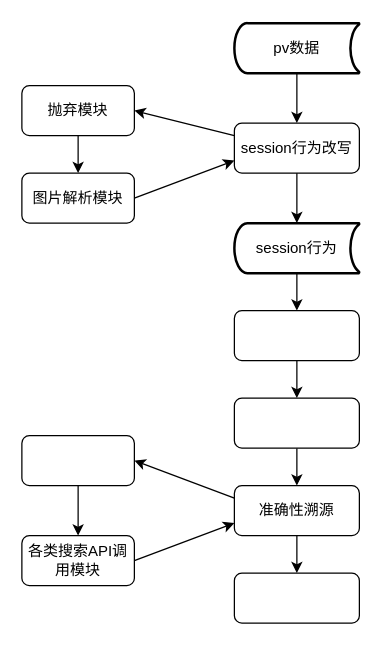
This 383x645 diagram has some shape labels left out. The centre of each missing label's shape, as x and y in pixels:
LLM评估session: pixel 296 422
query是否需要溯源: pixel 77 460
最终打分结果: pixel 296 597
用户意图识别: pixel 296 335
